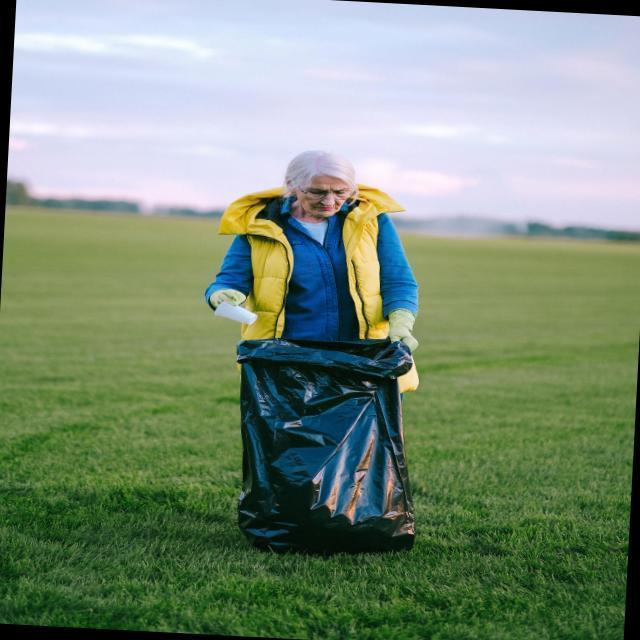Garbage_Bag: (218, 328, 434, 558)
